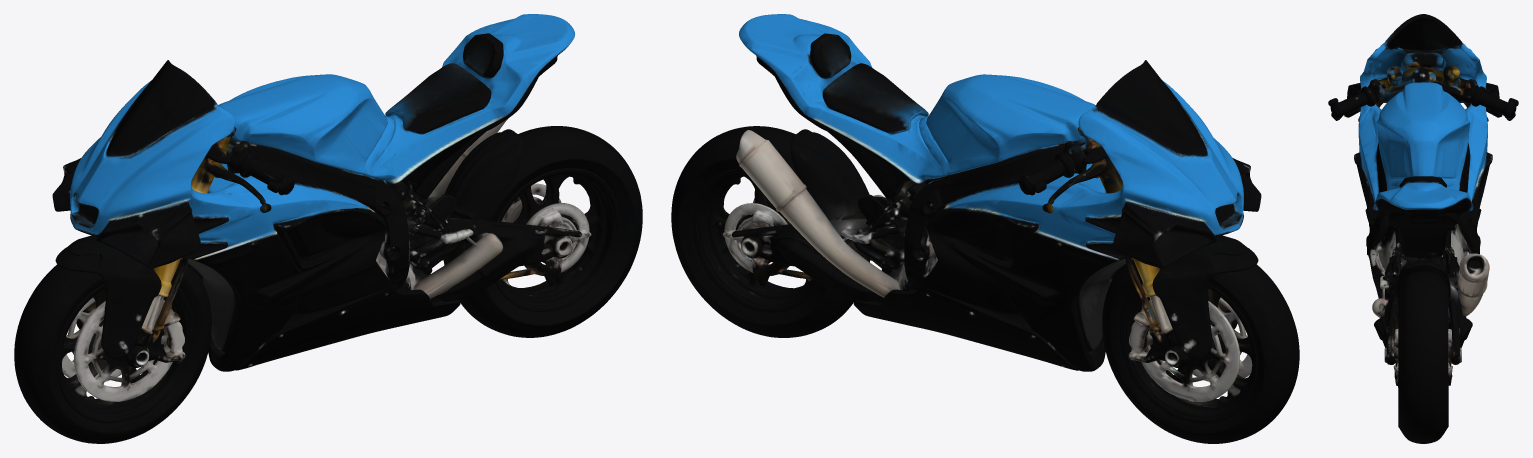
The model's file is bike-ai.glb.
3 views of the same model, side by side, from view 1: azimuth 30°, elevation 25°; view 2: azimuth 150°, elevation 25°; view 3: azimuth 270°, elevation 25° (orthographic). The views are drawn at different scales.
Parts seen in each view (by area): view 1: material; view 2: material; view 3: material.
Part boxes in pixels (<box>): material: <box>14,14,642,443</box>; material: <box>671,14,1299,443</box>; material: <box>1328,14,1518,443</box>.
Size of the model in its own units: 1.9 by 1.06 by 0.6506.
Materials: 1 (1 with a texture image).
